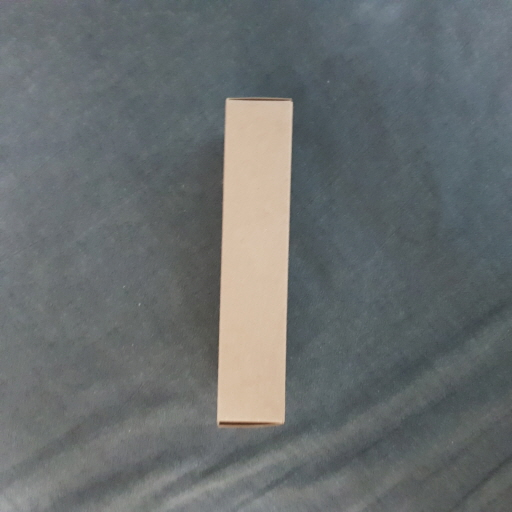Paper_0: (209, 88, 308, 440)
